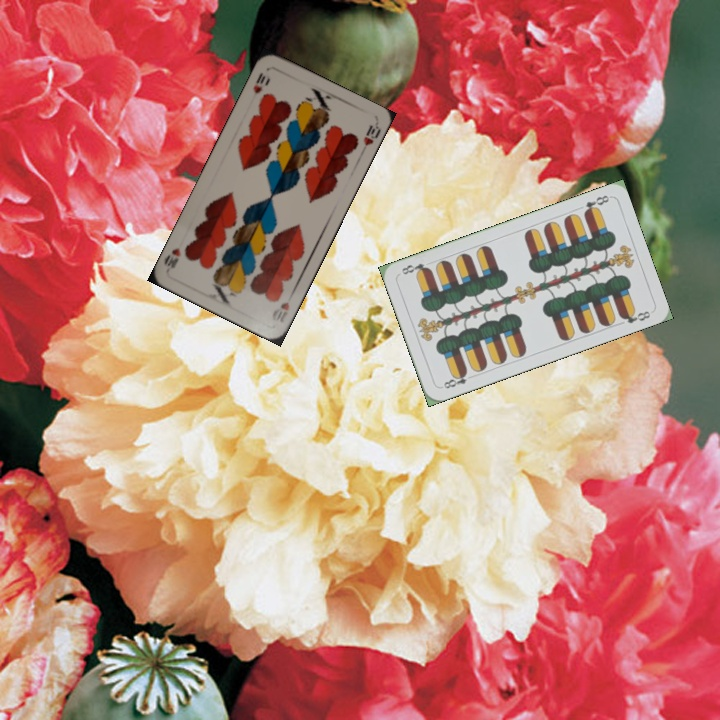E8: (437, 367, 477, 391), (580, 191, 612, 217)
H10: (272, 298, 292, 325), (249, 68, 268, 96)
